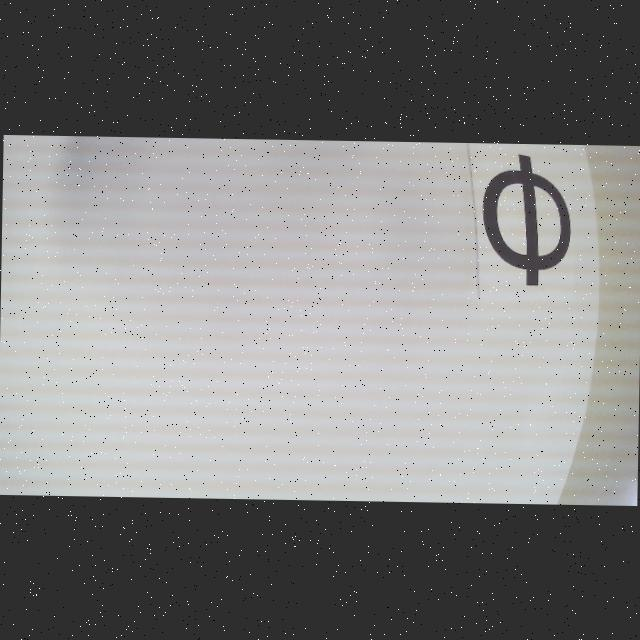PHI: (481, 152, 573, 288)
